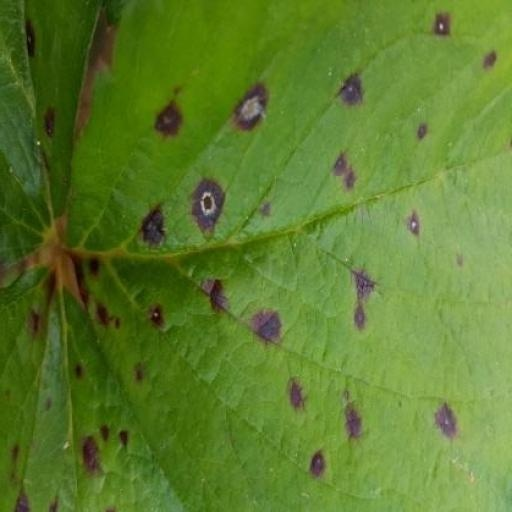Leaf Spot: (321, 262, 511, 511), (408, 0, 511, 270)
